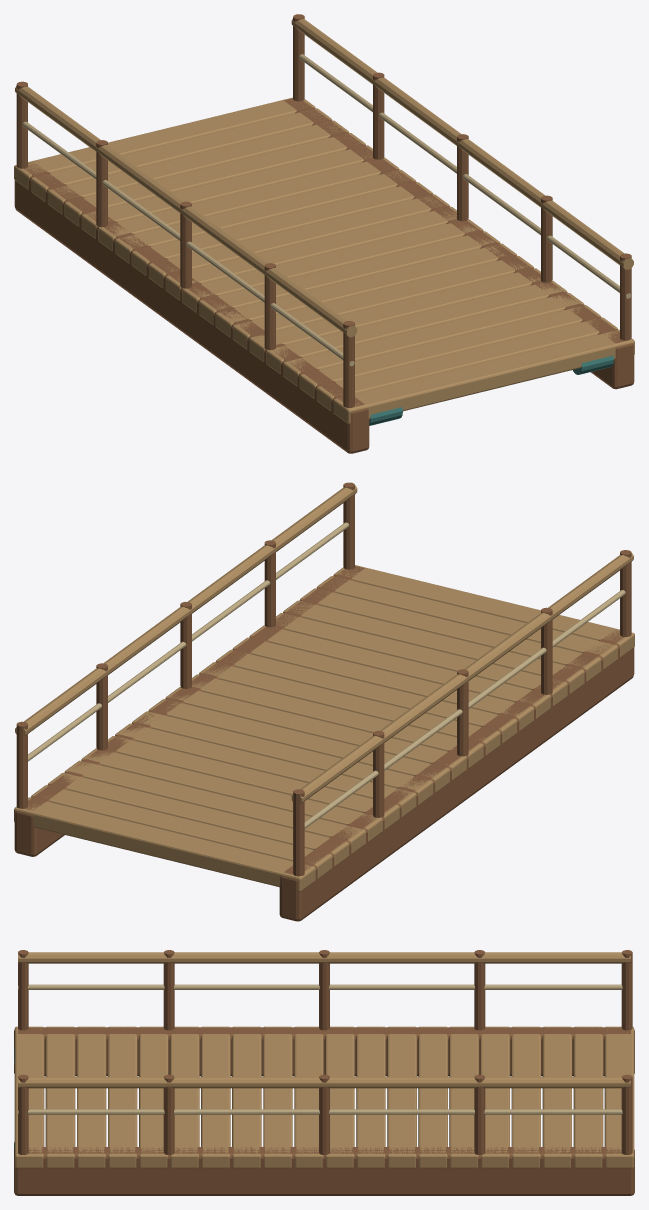
File: moonbay-bridge-v1.glb
3 views of the same model, one above another, from view 1: azimuth 30°, elevation 25°; view 2: azimuth 150°, elevation 25°; view 3: azimuth 270°, elevation 25° (orthographic). The views are drawn at different scales.
Visible parts, largest first — view 1: MB_woodlight_geometry, MB_wood_geometry, MB_rope_geometry, MB_copper_geometry; view 2: MB_woodlight_geometry, MB_wood_geometry, MB_rope_geometry; view 3: MB_woodlight_geometry, MB_wood_geometry, MB_rope_geometry.
Part boxes in pixels (<box>): MB_woodlight_geometry: <box>14,19,634,424</box>; MB_wood_geometry: <box>14,14,634,453</box>; MB_rope_geometry: <box>22,54,630,366</box>; MB_copper_geometry: <box>369,355,613,425</box>; MB_woodlight_geometry: <box>14,485,634,891</box>; MB_wood_geometry: <box>14,482,634,921</box>; MB_rope_geometry: <box>28,522,625,828</box>; MB_woodlight_geometry: <box>14,952,634,1168</box>; MB_wood_geometry: <box>14,950,634,1195</box>; MB_rope_geometry: <box>18,984,622,1114</box>.
Bounding box in the file's own units: 3.95 × 1.68 × 8.
